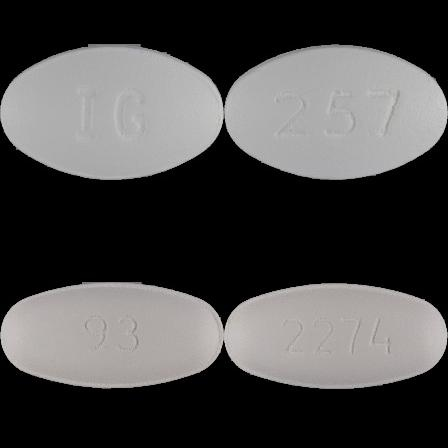50436-6046: (0, 0, 224, 224)
